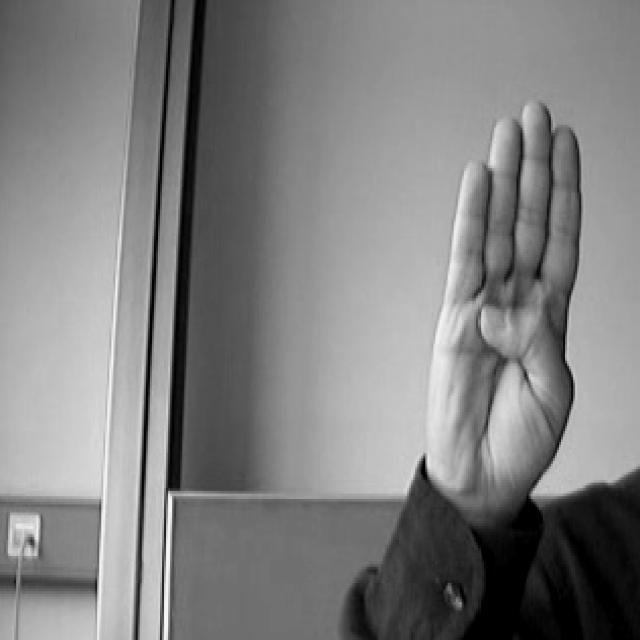B: (396, 84, 615, 538)
